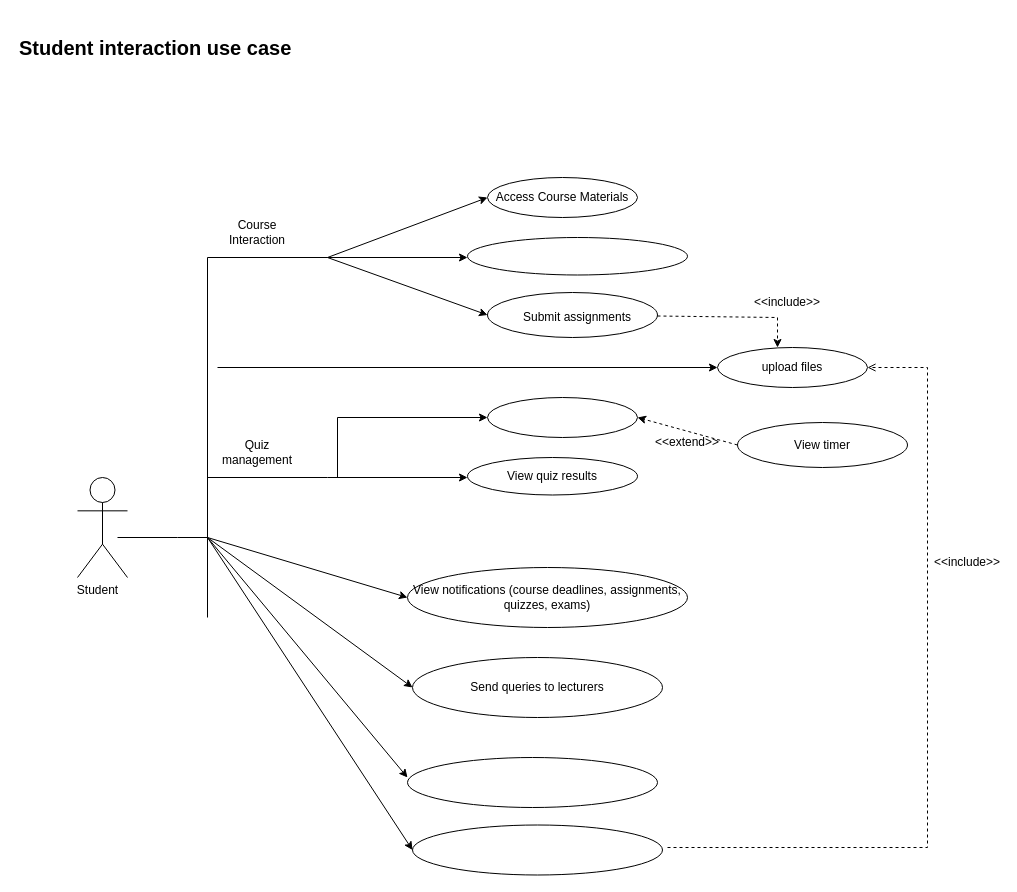
Image size: 1017x892. Some labels were removed from this diagram. The shapes that lost their labels are listed below. From the top down, each one's box as (x1, y1, x2, y2) in pixels, then its label:
(466, 236, 688, 275): Download Course Materials
(486, 396, 638, 438): Take quizzes
(406, 756, 658, 808): View Announcements
(412, 824, 662, 875): Manage private files
